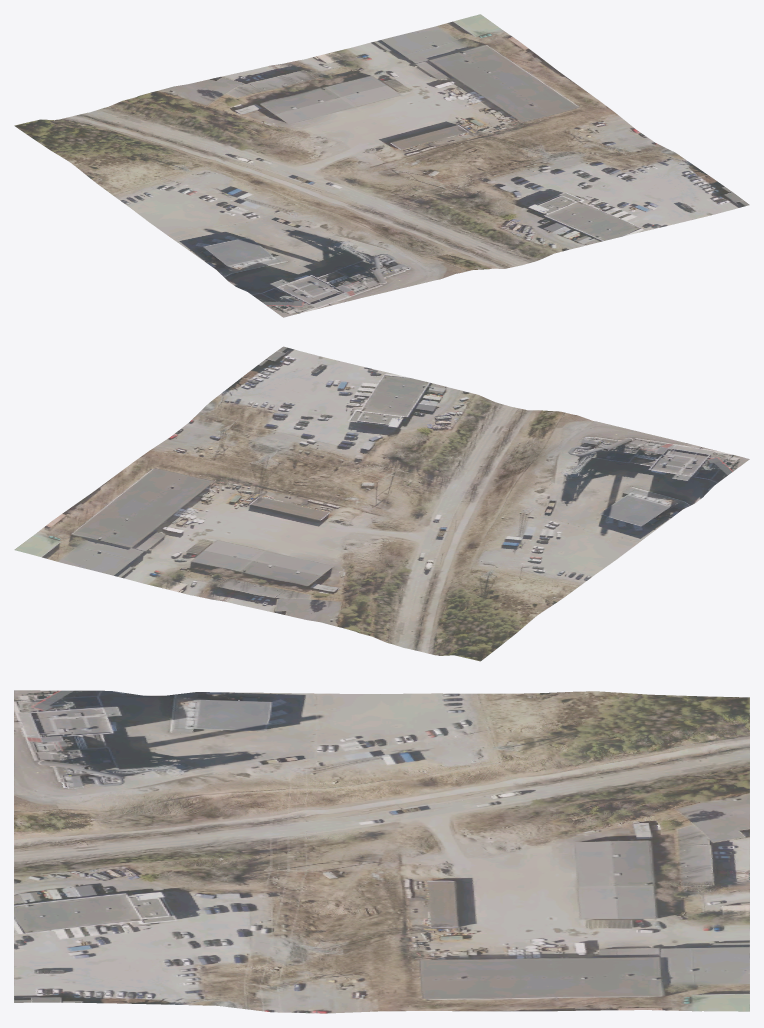
File: CM_Terrain_24492711_6816517.fbx
3 views of the same model, one above another, from view 1: azimuth 30°, elevation 25°; view 2: azimuth 150°, elevation 25°; view 3: azimuth 270°, elevation 25° (orthographic). The views are drawn at different scales.
Visible parts, largest first — view 1: CM_Terrain_24492711_6816517_LOD0; view 2: CM_Terrain_24492711_6816517_LOD0; view 3: CM_Terrain_24492711_6816517_LOD0.
Part boxes in pixels (x1,y1,x2,y2): CM_Terrain_24492711_6816517_LOD0: [14, 14, 749, 317]; CM_Terrain_24492711_6816517_LOD0: [14, 346, 749, 661]; CM_Terrain_24492711_6816517_LOD0: [14, 690, 749, 1013].
Size of what is drawn, in the model's own units: 205 by 5.1 by 205.
